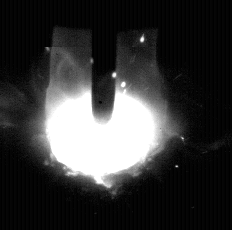arame: (92, 0, 117, 123)
poca: (45, 0, 155, 230)
